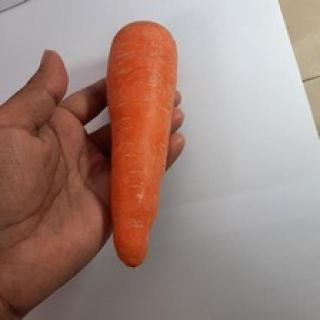carrot: (91, 12, 183, 282)
